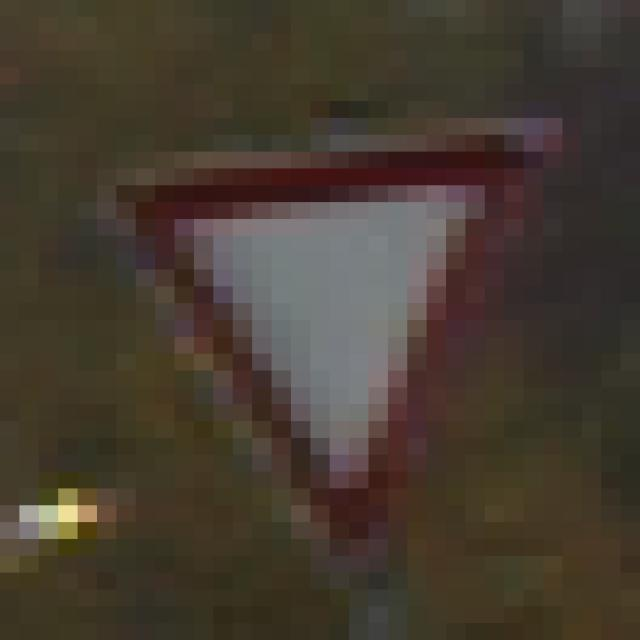Give Way: (98, 102, 525, 540)
